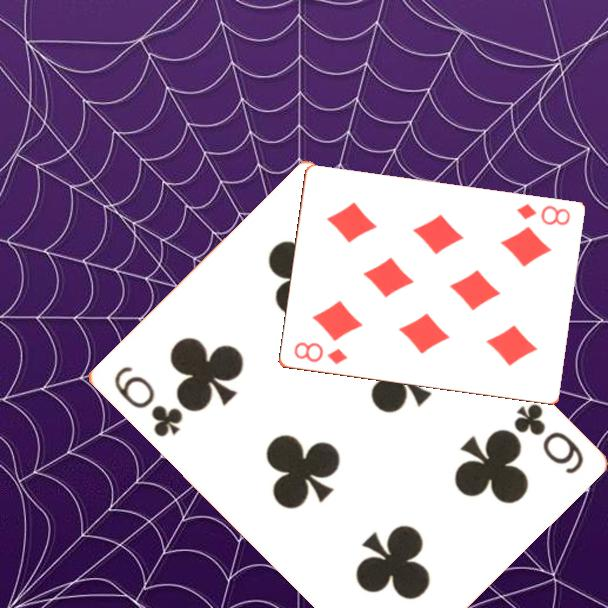c06: (509, 400, 586, 477), (109, 362, 185, 440)
d08: (512, 200, 573, 229), (290, 339, 350, 368)
